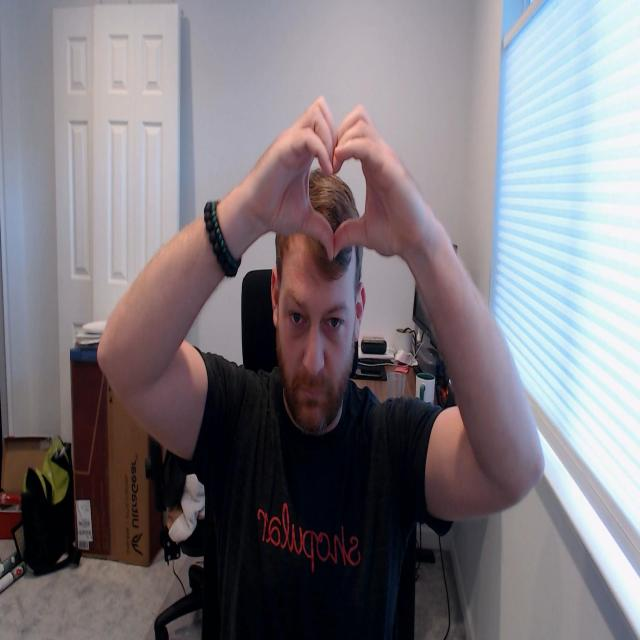face: (278, 246, 357, 432)
